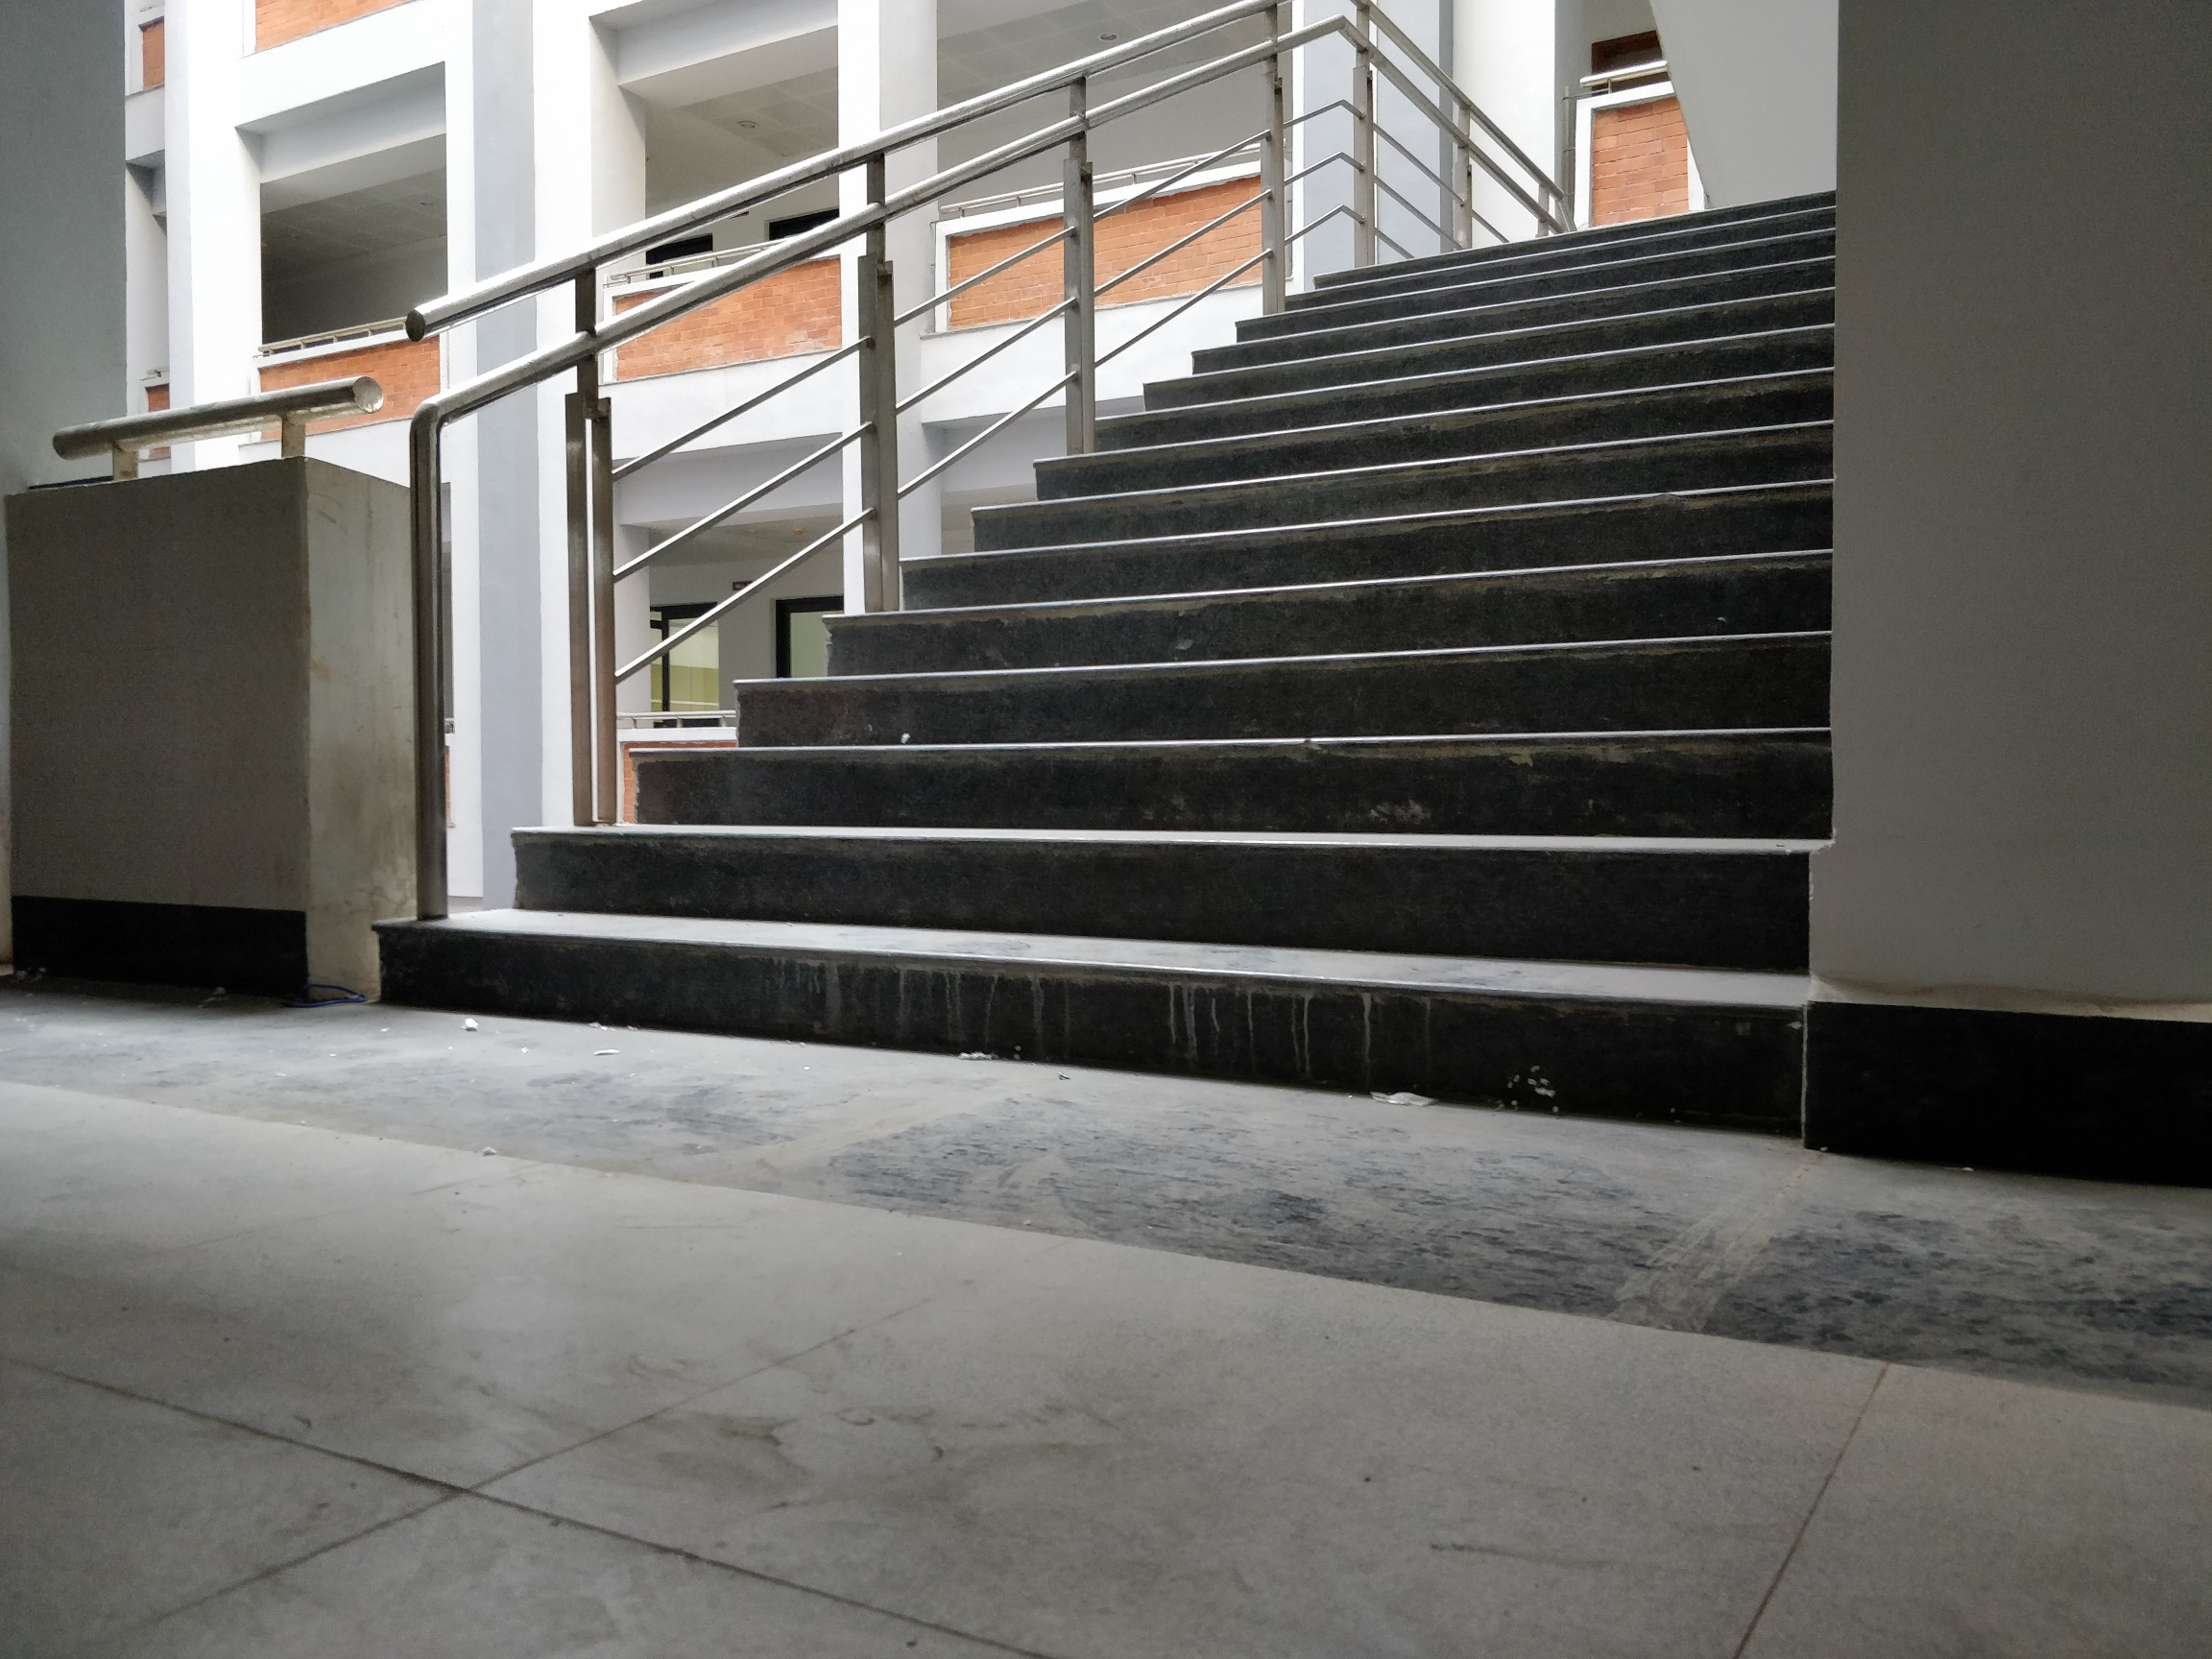stairs_up: (441, 185, 1832, 1068)
